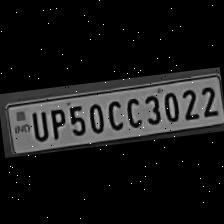0: (83, 98, 106, 134), (158, 87, 181, 123)
2: (194, 82, 218, 119), (176, 84, 199, 120)
3: (140, 89, 162, 126)
5: (62, 100, 86, 136)
C: (120, 92, 144, 128), (102, 95, 124, 131)
P: (44, 102, 68, 140)
U: (26, 106, 48, 142)
